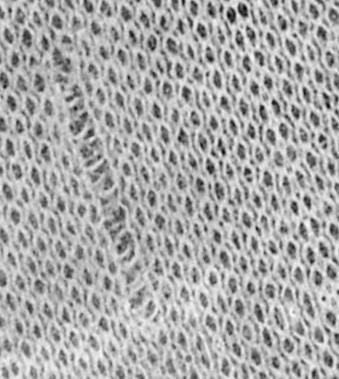slub: (43, 30, 170, 334)
